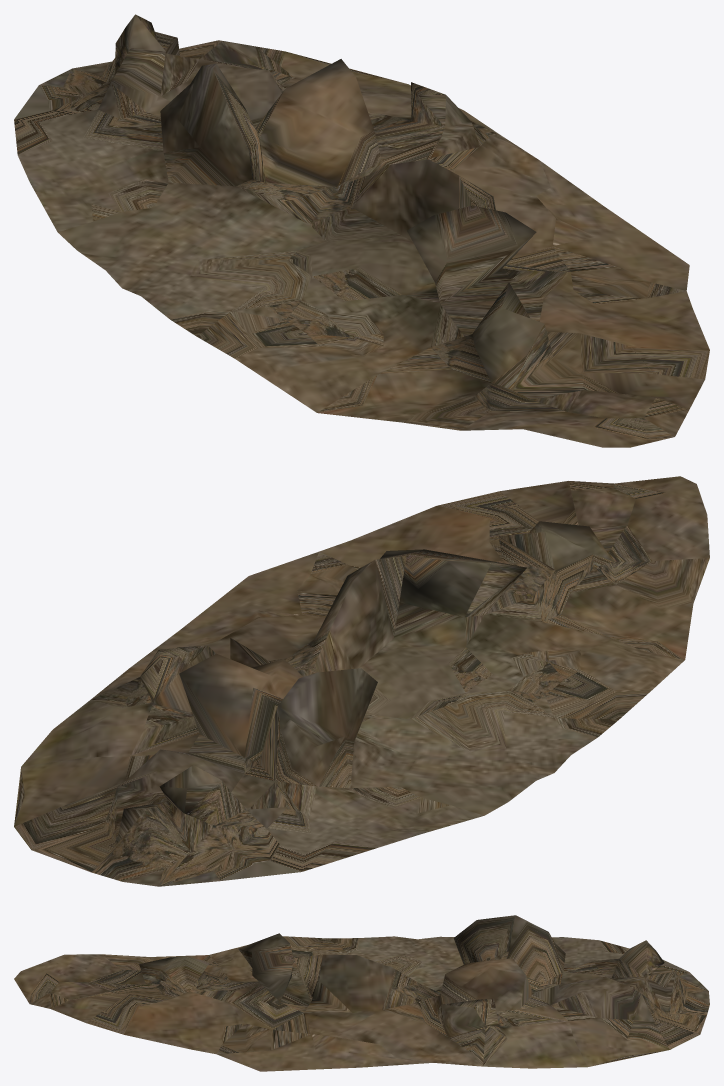
The picture shows the model from 3 angles, top to bottom: view 1: azimuth 30°, elevation 25°; view 2: azimuth 150°, elevation 25°; view 3: azimuth 270°, elevation 25°; orthographic projection. The views are drawn at different scales.
Visible parts, largest first — view 1: coast_land_rocks_02_lod2; view 2: coast_land_rocks_02_lod2; view 3: coast_land_rocks_02_lod2.
Part boxes in pixels (x1,y1,x2,y2): coast_land_rocks_02_lod2: [14, 14, 709, 447]; coast_land_rocks_02_lod2: [14, 476, 709, 886]; coast_land_rocks_02_lod2: [14, 915, 709, 1071].
Size of the model in its own units: 4.83 by 1.37 by 10.42.
Materials: 1 (1 with a texture image).
